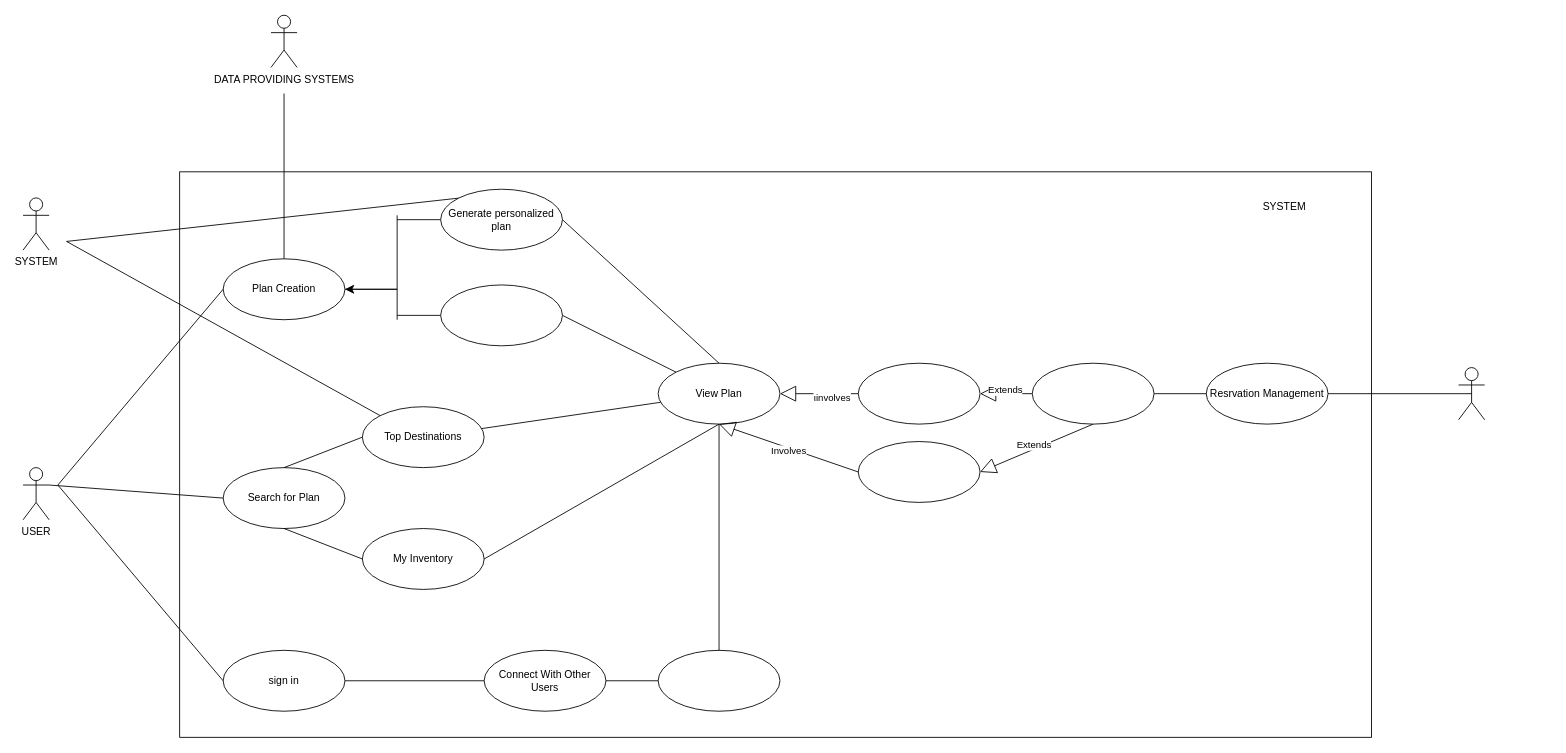
The diagram is 1566 pixels wide and 753 high, and some of its shapes have lost their labels. Each missing label, with the centre of its shape:
"Budget Management" goes at point 918,471.
"Build your own plan" goes at point 501,315.
"Configure Plan" goes at point 918,393.
"EXTERNAL BOOKING SYSTEMS" goes at point 1471,393.
"Provide Feedback" goes at point 718,680.
"User Profile" goes at point 1092,393.
